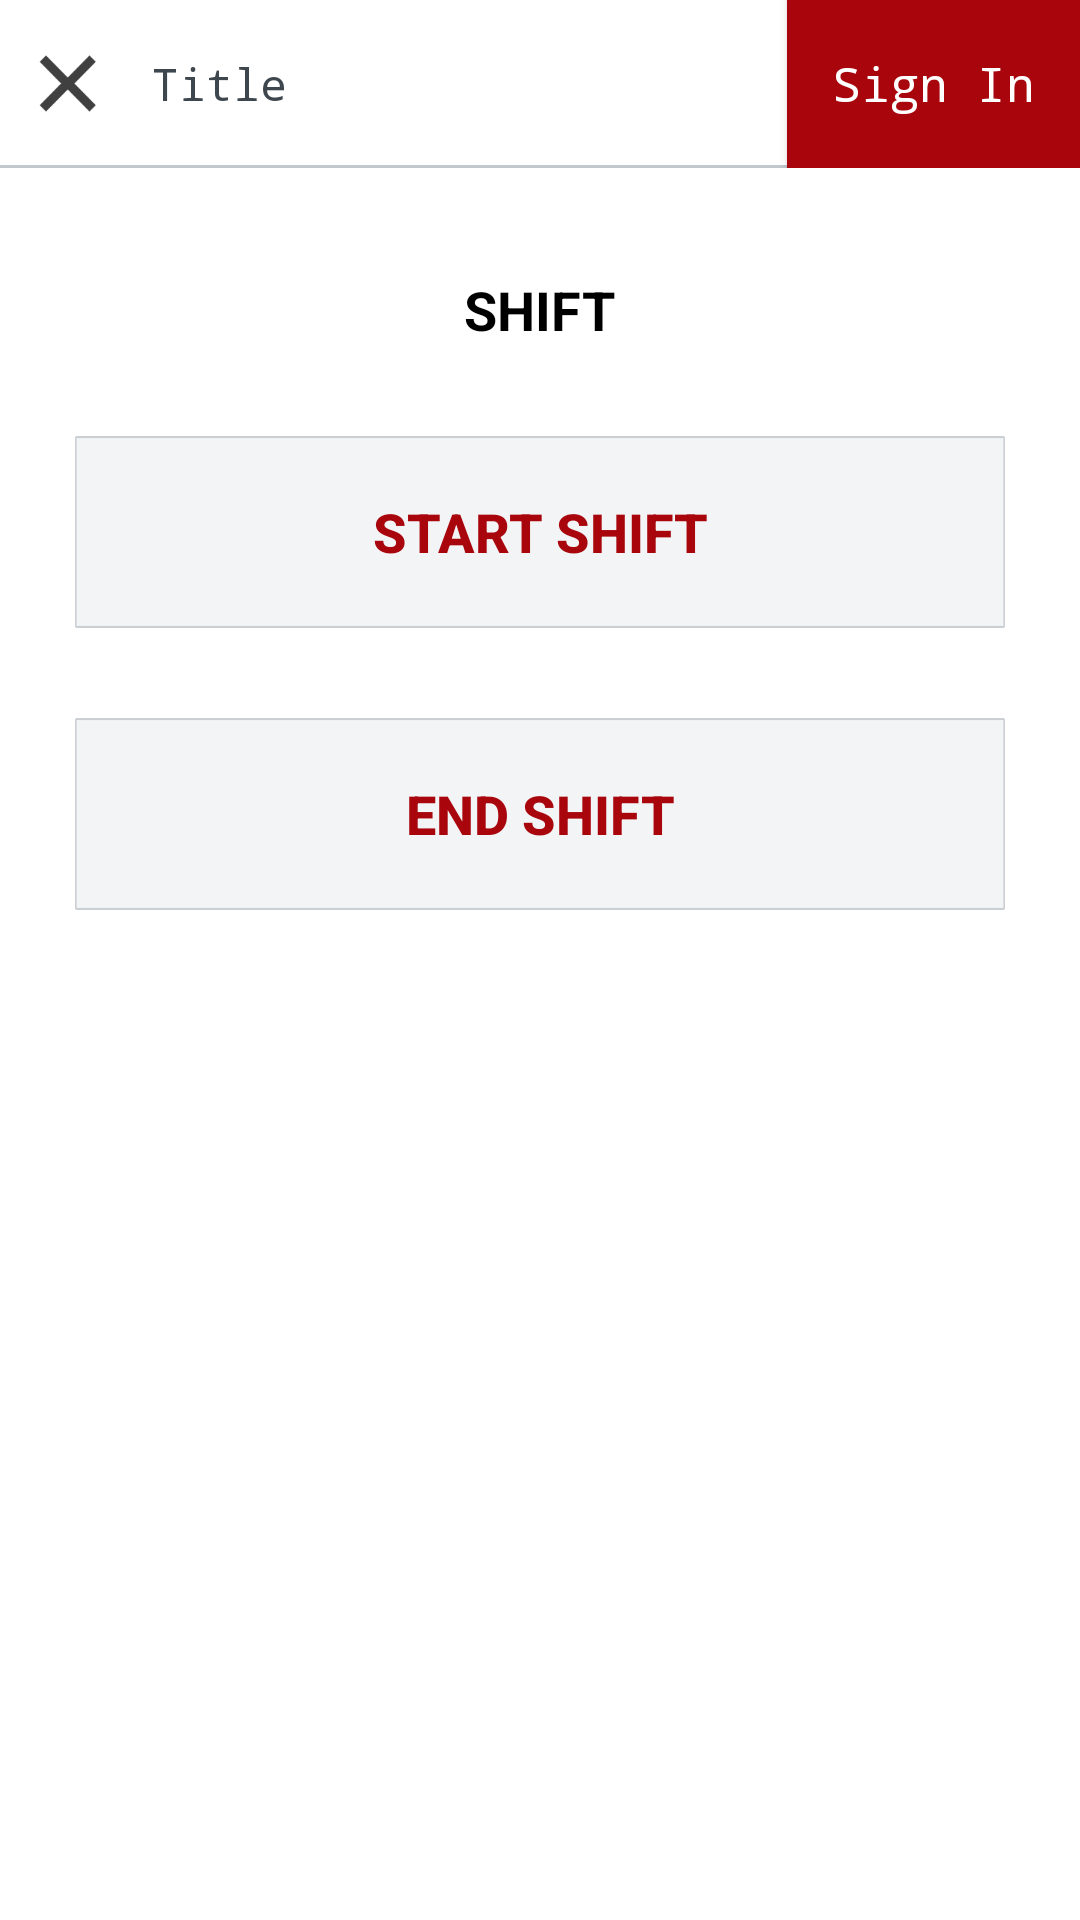

Point at icon controls on the screen. Image size 1080px x 1920px, points as [x,y].
close: [68,83]
